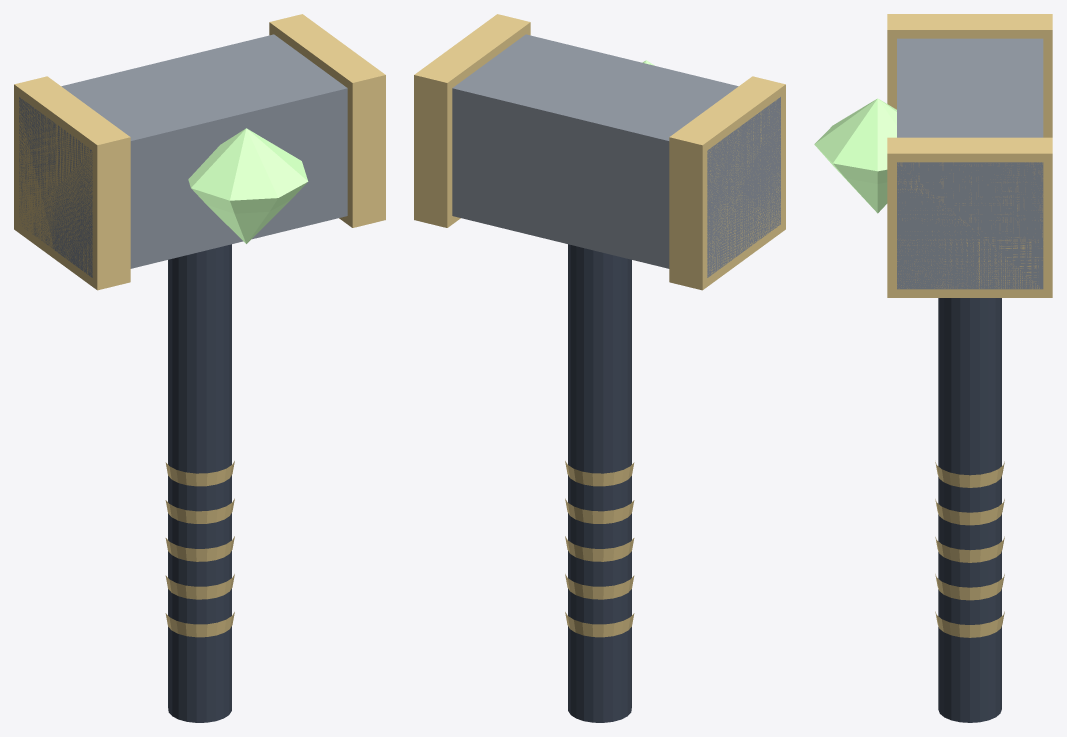
Rendered from phan_relic.gltf.
3 views of the same model, side by side, from view 1: azimuth 30°, elevation 25°; view 2: azimuth 150°, elevation 25°; view 3: azimuth 270°, elevation 25° (orthographic).
Parts seen in each view (by area): view 1: phan_mallet_relic_review; view 2: phan_mallet_relic_review; view 3: phan_mallet_relic_review.
Part boxes in pixels (x1,y1,x2,y2): phan_mallet_relic_review: (14,14,385,722); phan_mallet_relic_review: (414,14,785,722); phan_mallet_relic_review: (814,14,1052,722).
Size of the model in its own units: 0.52 by 1.08 by 0.375.
